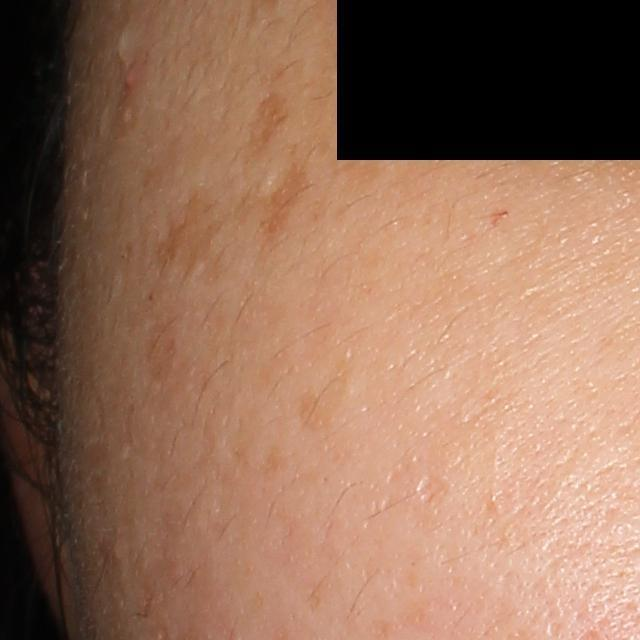atrophic_scar: (414, 470, 444, 505)
comedo: (113, 27, 133, 66)
melasma: (144, 192, 230, 312), (238, 64, 292, 179), (260, 162, 319, 257), (299, 351, 360, 437)
papule: (120, 67, 143, 91)
